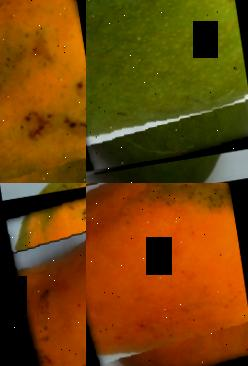PartiallyRipe: (0, 0, 86, 183)
Ripe: (86, 183, 248, 366), (1, 183, 86, 366)
Unripe: (86, 0, 248, 174)
